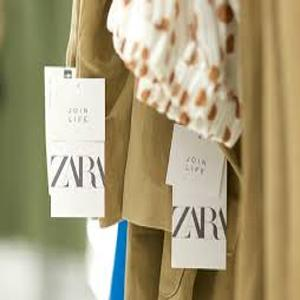zara: (173, 204, 229, 247), (49, 150, 105, 190)
